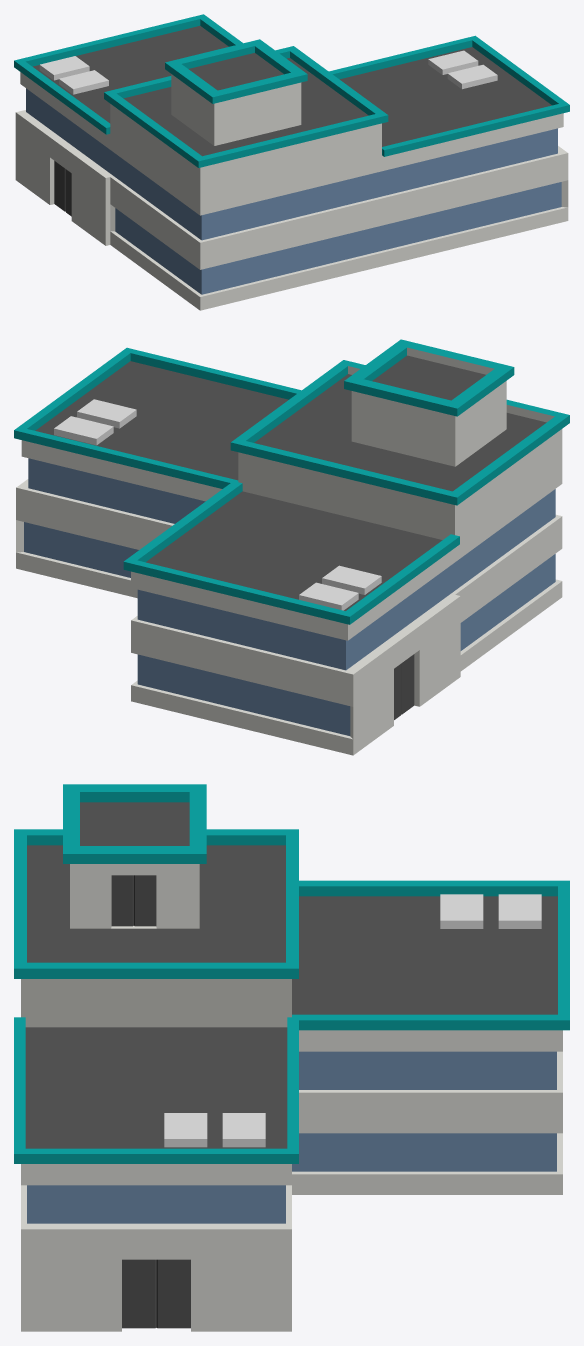
File: Building_Teal.fbx
The picture shows the model from 3 angles, top to bottom: view 1: azimuth 30°, elevation 25°; view 2: azimuth 150°, elevation 25°; view 3: azimuth 270°, elevation 25°; orthographic projection. The views are drawn at different scales.
Visible parts, largest first — view 1: pCube2, pCube3, pCube5, pCube6, pCube4; view 2: pCube2, pCube4, pCube5, pCube3, pCube6; view 3: pCube2, pCube6, pCube5, pCube3, pCube4.
Boxes of the visible parts, left/top/right/bottom form: pCube2: left=14, top=14, right=569, bottom=310; pCube3: left=447, top=64, right=497, bottom=89; pCube5: left=59, top=70, right=108, bottom=94; pCube6: left=39, top=56, right=89, bottom=80; pCube4: left=428, top=50, right=478, bottom=74; pCube2: left=14, top=339, right=569, bottom=755; pCube4: left=54, top=416, right=113, bottom=445; pCube5: left=322, top=565, right=381, bottom=594; pCube3: left=77, top=399, right=136, bottom=428; pCube6: left=299, top=582, right=358, bottom=610; pCube2: left=14, top=784, right=569, bottom=1331; pCube6: left=498, top=894, right=541, bottom=928; pCube5: left=440, top=894, right=483, bottom=928; pCube3: left=164, top=1113, right=207, bottom=1147; pCube4: left=222, top=1113, right=265, bottom=1147.
Size of the model in its own units: 7.17 by 3.62 by 6.16.
